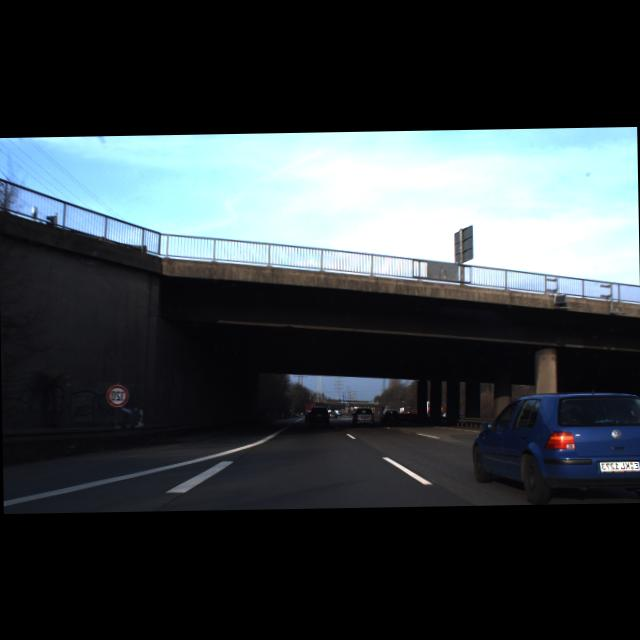prohibitory: (106, 384, 129, 407)
